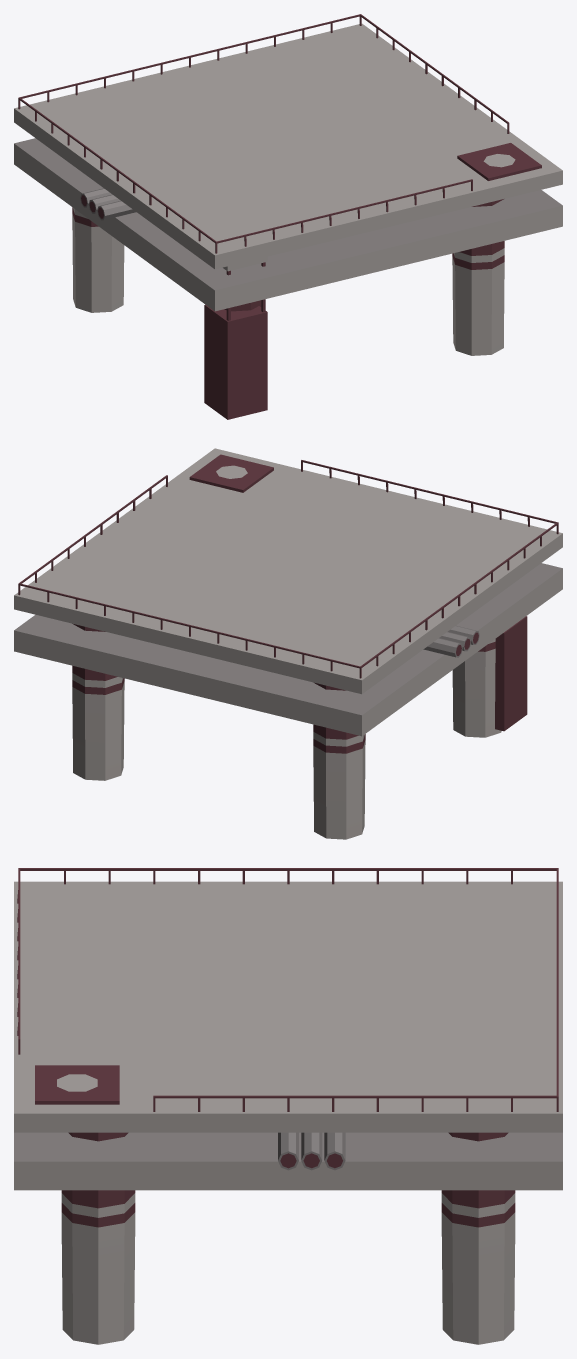
The model's file is sea-refinery.fbx.
The picture shows the model from 3 angles, top to bottom: view 1: azimuth 30°, elevation 25°; view 2: azimuth 150°, elevation 25°; view 3: azimuth 270°, elevation 25°; orthographic projection. The views are drawn at different scales.
Visible parts, largest first — view 1: sea-refinery; view 2: sea-refinery; view 3: sea-refinery.
Boxes of the visible parts, <box> form: sea-refinery: <box>14,14,562,419</box>; sea-refinery: <box>14,448,562,839</box>; sea-refinery: <box>14,868,562,1344</box>.
Bounding box in the file's own units: 2800 × 1396 × 2600.
